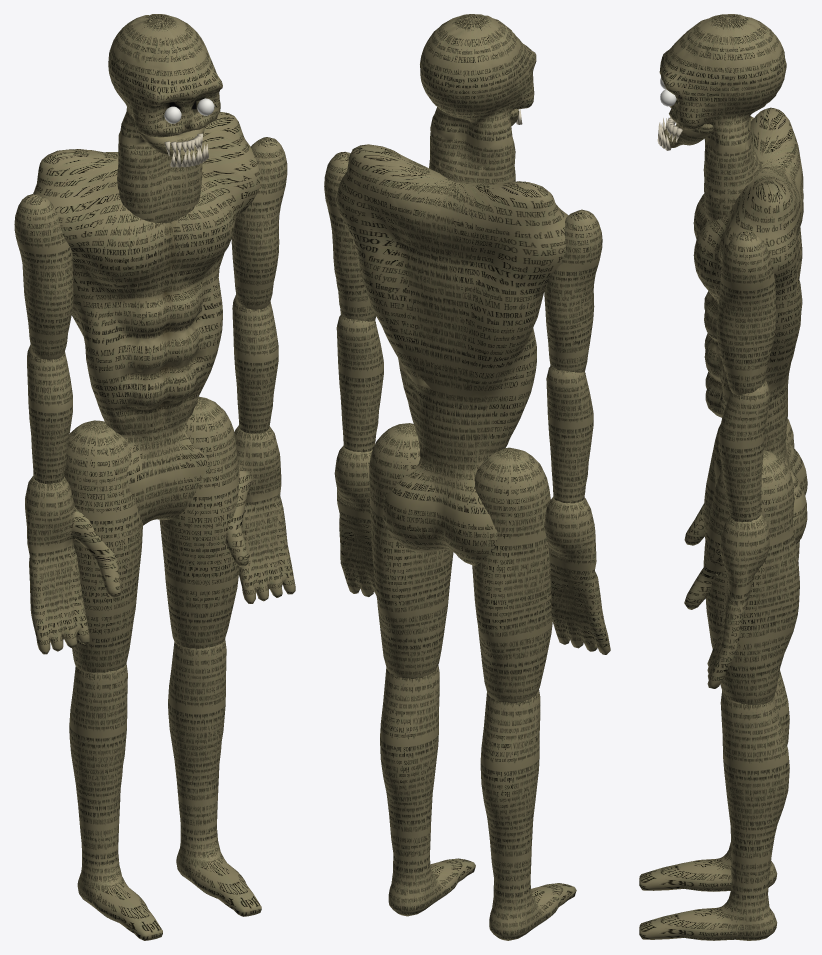
The model's file is existido.glb.
3 renders of one model, left to right at view 1: azimuth 30°, elevation 25°; view 2: azimuth 150°, elevation 25°; view 3: azimuth 270°, elevation 25°, orthographic.
Parts seen in each view (by area): view 1: P_chest, P_neck, P_hipL, P_kneeR, P_kneeL, P_hipR, P_handR, P_handL, P_shR, P_shL, P_elL, P_elR (+1 smaller); view 2: P_chest, P_hipR, P_neck, P_kneeR, P_kneeL, P_hipL, P_handR, P_shR, P_elR, P_elL, P_handL, P_shL; view 3: P_chest, P_neck, P_kneeL, P_hipL, P_shL, P_handL, P_elL, P_kneeR, P_jaw, P_hipR, P_handR.
Part boxes in pixels (box(x1,y1,x2,y2)): P_chest: box(33, 112, 260, 525); P_neck: box(108, 14, 222, 223); P_hipL: box(159, 396, 239, 648); P_kneeR: box(69, 663, 162, 940); P_kneeL: box(168, 639, 261, 916); P_hipR: box(64, 420, 142, 672); P_handR: box(25, 475, 121, 654); P_handL: box(225, 425, 295, 603); P_shR: box(14, 194, 73, 359); P_shL: box(231, 137, 287, 309); P_elL: box(232, 294, 278, 433); P_elR: box(27, 344, 72, 484); P_chest: box(336, 144, 568, 565); P_hipR: box(472, 447, 552, 703); P_neck: box(420, 14, 536, 183); P_kneeR: box(480, 690, 576, 940); P_kneeL: box(380, 665, 475, 916); P_hipL: box(369, 423, 453, 678); P_handR: box(544, 496, 610, 654); P_shR: box(544, 209, 602, 372); P_elR: box(546, 366, 593, 503); P_elL: box(336, 315, 383, 452); P_handL: box(334, 445, 376, 596); P_shL: box(324, 151, 376, 321); P_chest: box(693, 107, 807, 544); P_neck: box(659, 14, 786, 221); P_kneeL: box(639, 690, 789, 940); P_hipL: box(703, 450, 799, 704); P_shL: box(716, 231, 776, 395); P_handL: box(684, 513, 769, 688); P_elL: box(718, 380, 770, 522); P_kneeR: box(639, 670, 789, 891); P_jaw: box(657, 118, 713, 150); P_hipR: box(703, 419, 799, 559); P_handR: box(684, 503, 704, 545).
Bounding box in the file's own units: 0.6482 × 2.04 × 0.3484.
Materials: 4 (2 with a texture image).
